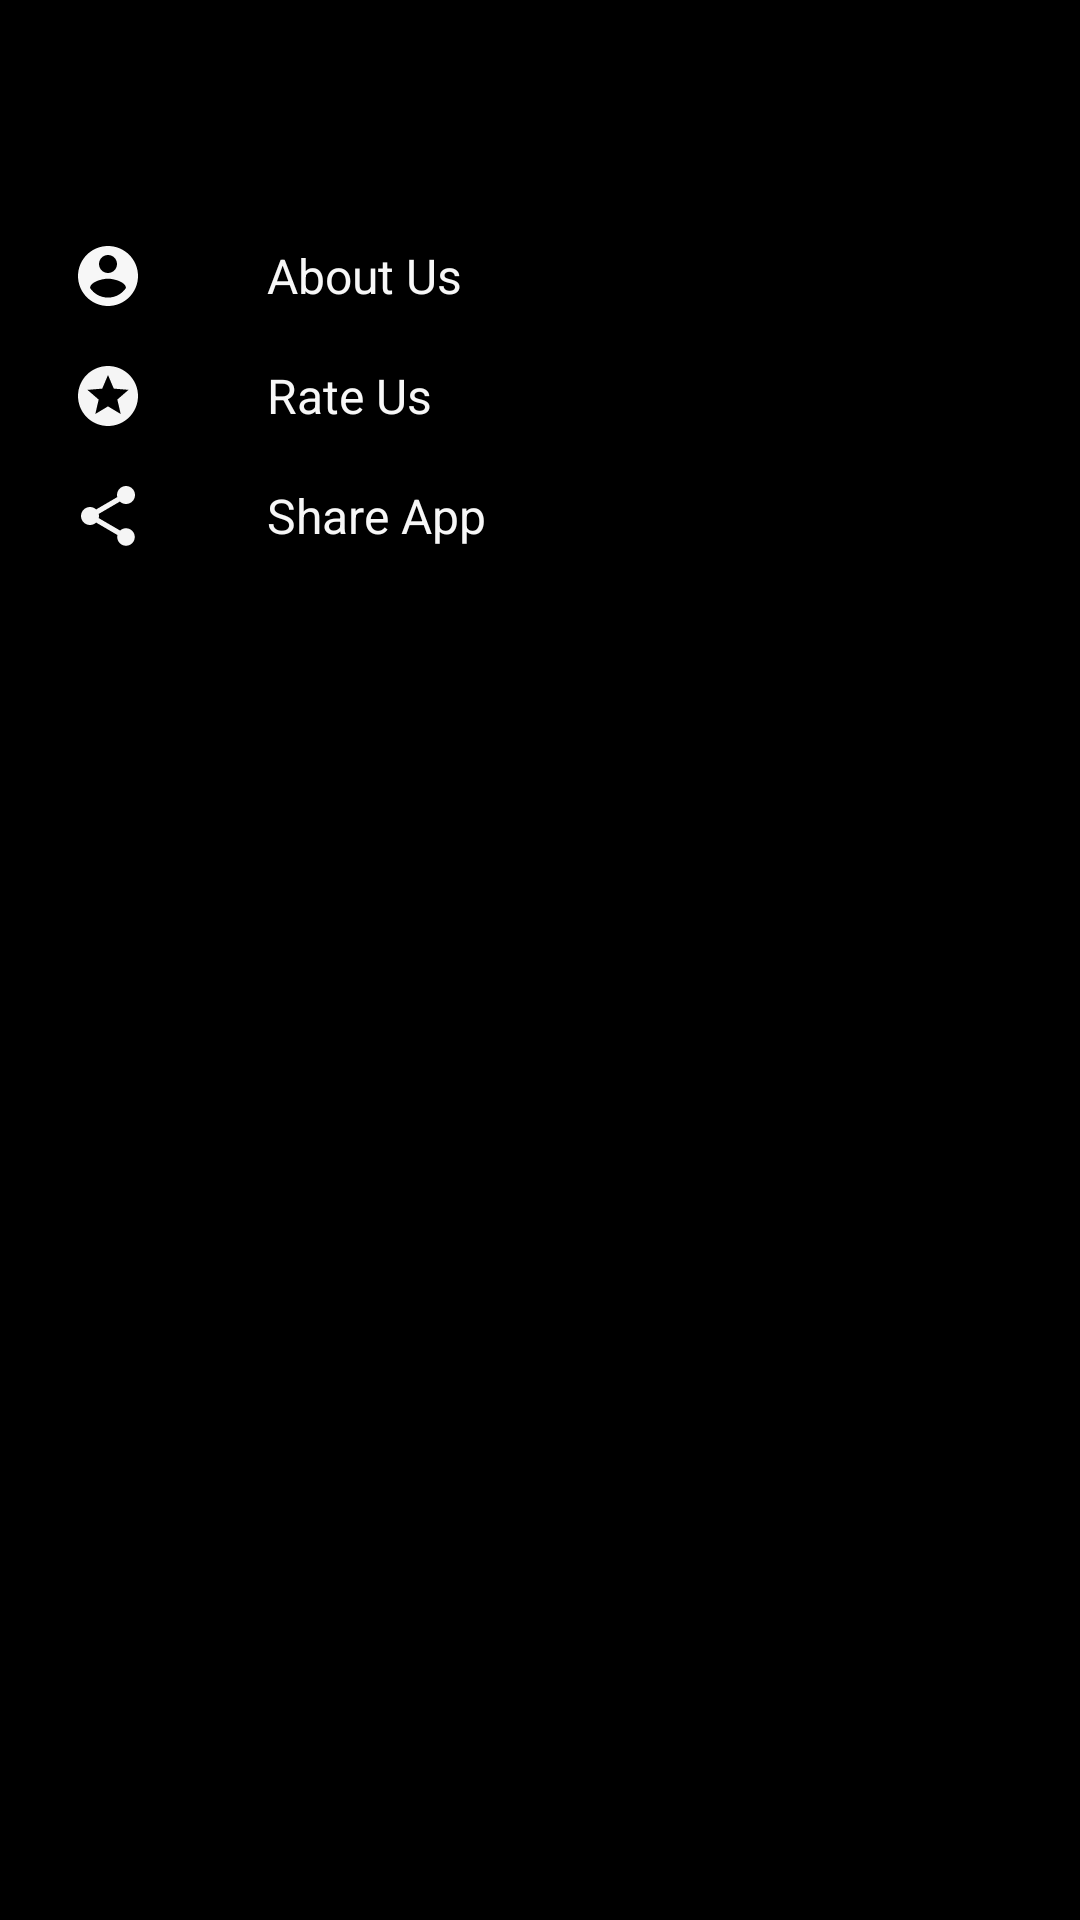

Named icons in this screenshot (1080x1920) and their bounding boxes, (x1, y1, x2, y2):
setting share: (81, 486, 135, 546)
stars: (78, 366, 138, 426)
